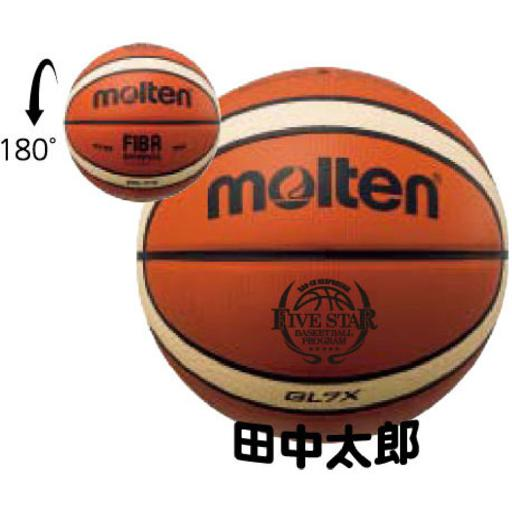ball: (64, 41, 222, 203)
